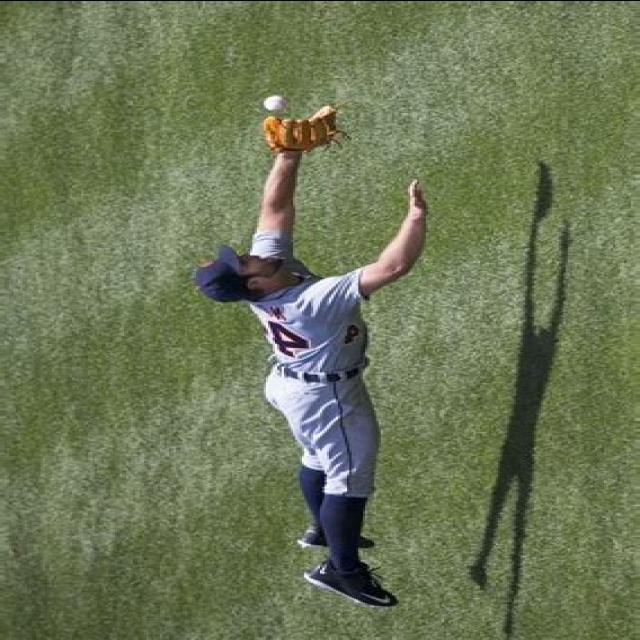ball: (262, 94, 290, 110)
glove: (259, 101, 349, 155)
